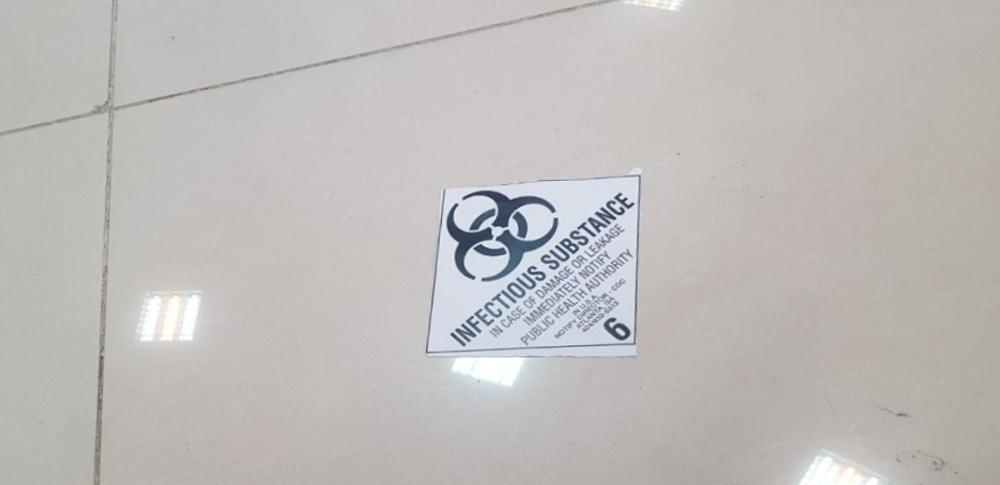infectious-substance: (427, 175, 655, 355)
